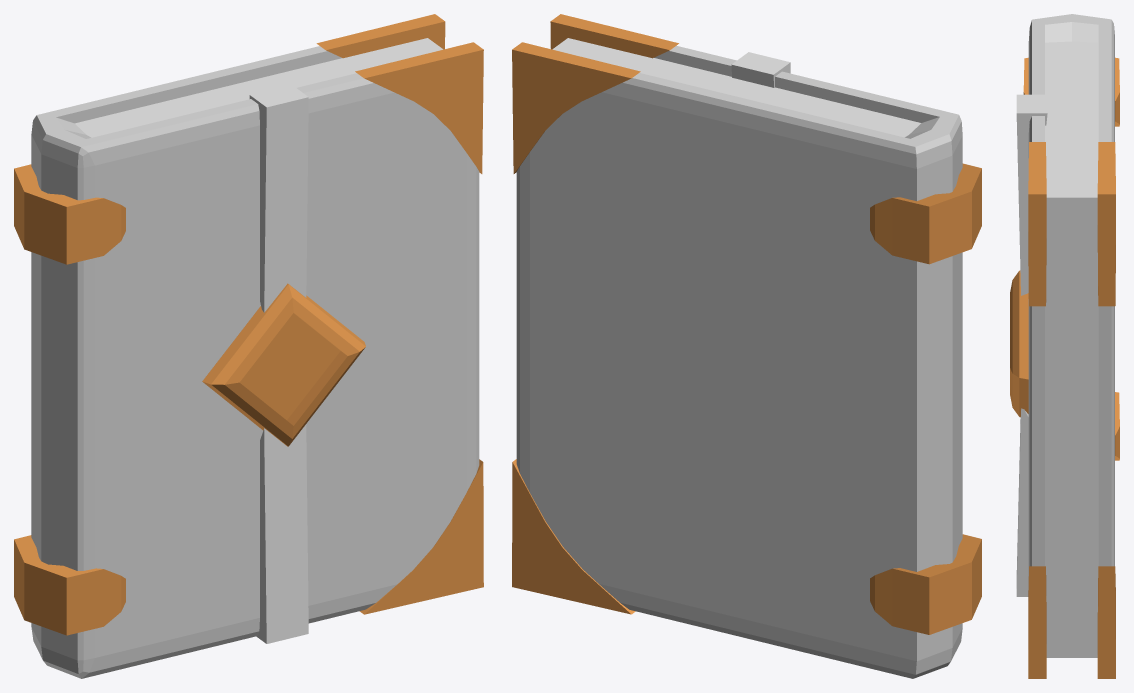
Rendered from StrapBook.fbx.
3 views of the same model, side by side, from view 1: azimuth 30°, elevation 25°; view 2: azimuth 150°, elevation 25°; view 3: azimuth 270°, elevation 25° (orthographic). The views are drawn at different scales.
Visible parts, largest first — view 1: Cube.087; view 2: Cube.087; view 3: Cube.087.
Part boxes in pixels (x1=…): Cube.087: x1=14, y1=14, x2=483, y2=678; Cube.087: x1=512, y1=14, x2=981, y2=678; Cube.087: x1=1010, y1=14, x2=1119, y2=678.
Size of the model in its own units: 43.44 by 51.39 by 10.54.
